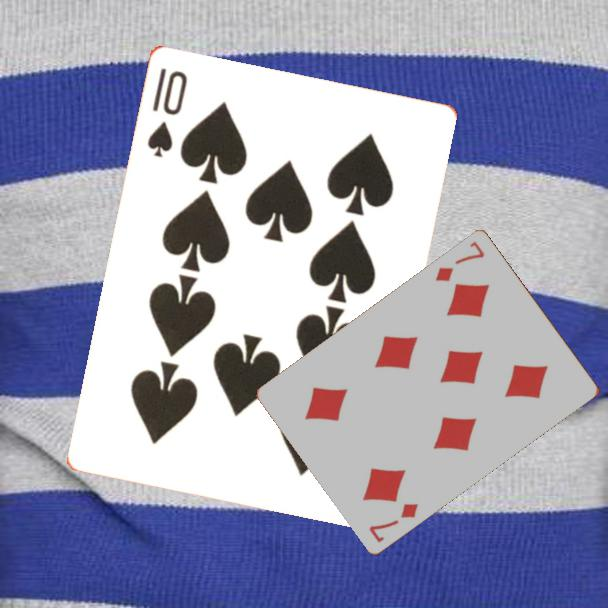d07: (432, 237, 488, 284), (365, 499, 421, 545)
s10: (143, 64, 190, 160)
